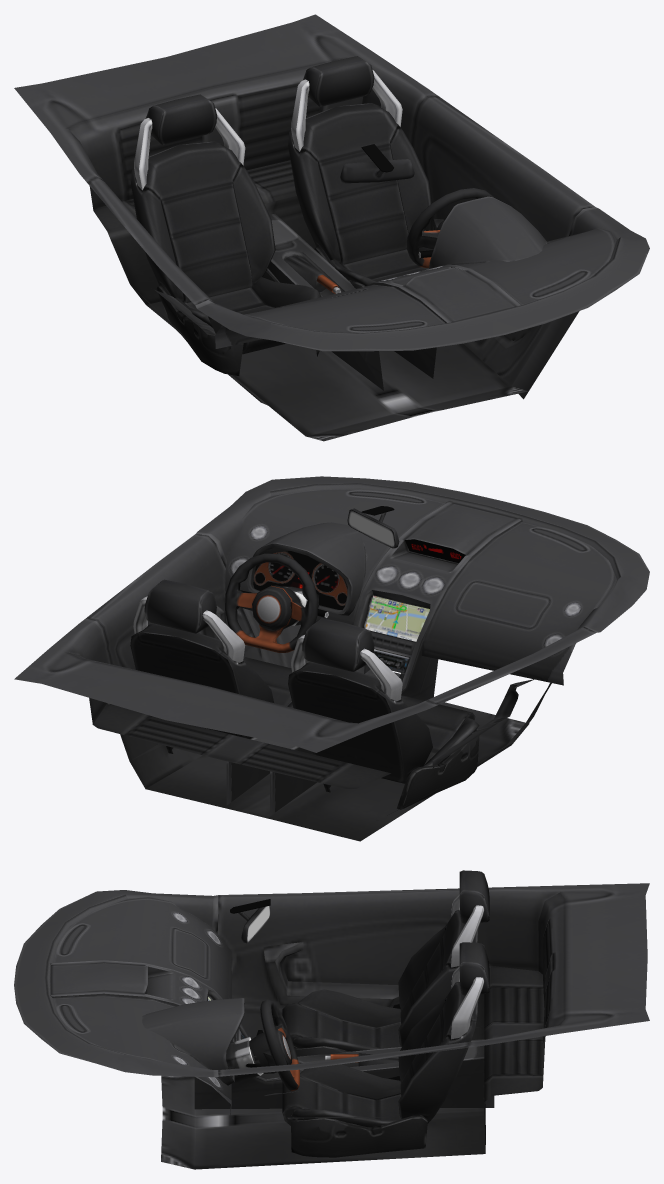
The model's file is Car_04_Interior.FBX.
3 views of the same model, one above another, from view 1: azimuth 30°, elevation 25°; view 2: azimuth 150°, elevation 25°; view 3: azimuth 270°, elevation 25° (orthographic). The views are drawn at different scales.
Visible parts, largest first — view 1: Interior_04; view 2: Interior_04; view 3: Interior_04.
Boxes of the visible parts, x1,y1,x2,y2 form: Interior_04: (14, 14, 649, 441); Interior_04: (14, 476, 649, 841); Interior_04: (14, 870, 649, 1169).
Bounding box in the file's own units: 1.57 × 2.3 × 0.8809.
Materials: 1 (1 with a texture image).
